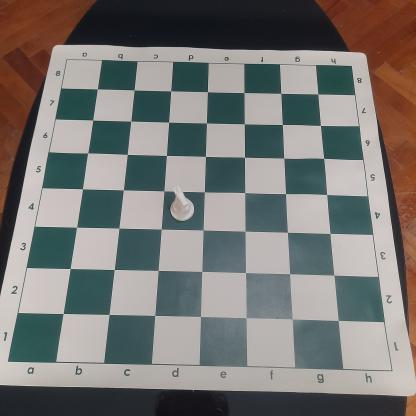white-knight: (167, 185, 196, 223)
